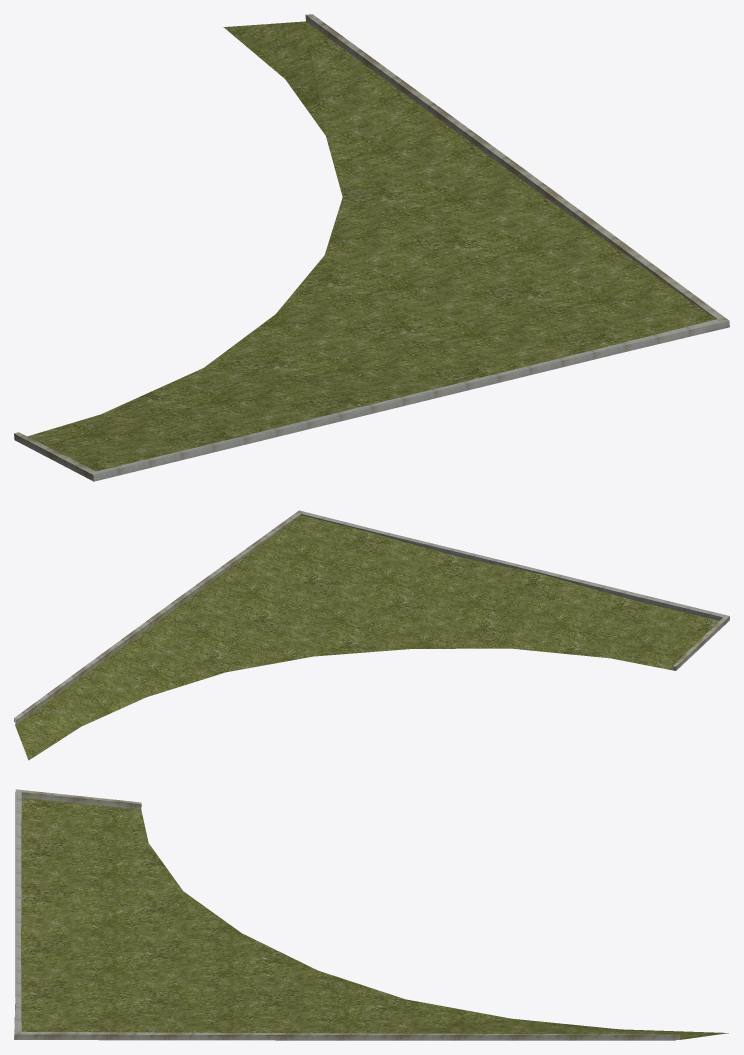
The model's file is lae2_ground07.obj.
3 renders of one model, top to bottom at view 1: azimuth 30°, elevation 25°; view 2: azimuth 150°, elevation 25°; view 3: azimuth 270°, elevation 25°, orthographic. The views are drawn at different scales.
Visible parts, largest first — view 1: lae2_ground07; view 2: lae2_ground07; view 3: lae2_ground07.
Part boxes in pixels (left/top/right/bottom): lae2_ground07: left=14, top=14, right=729, bottom=481; lae2_ground07: left=14, top=510, right=729, bottom=760; lae2_ground07: left=14, top=789, right=728, bottom=1040.
Bounding box in the file's own units: 100 × 3.66 × 124.
